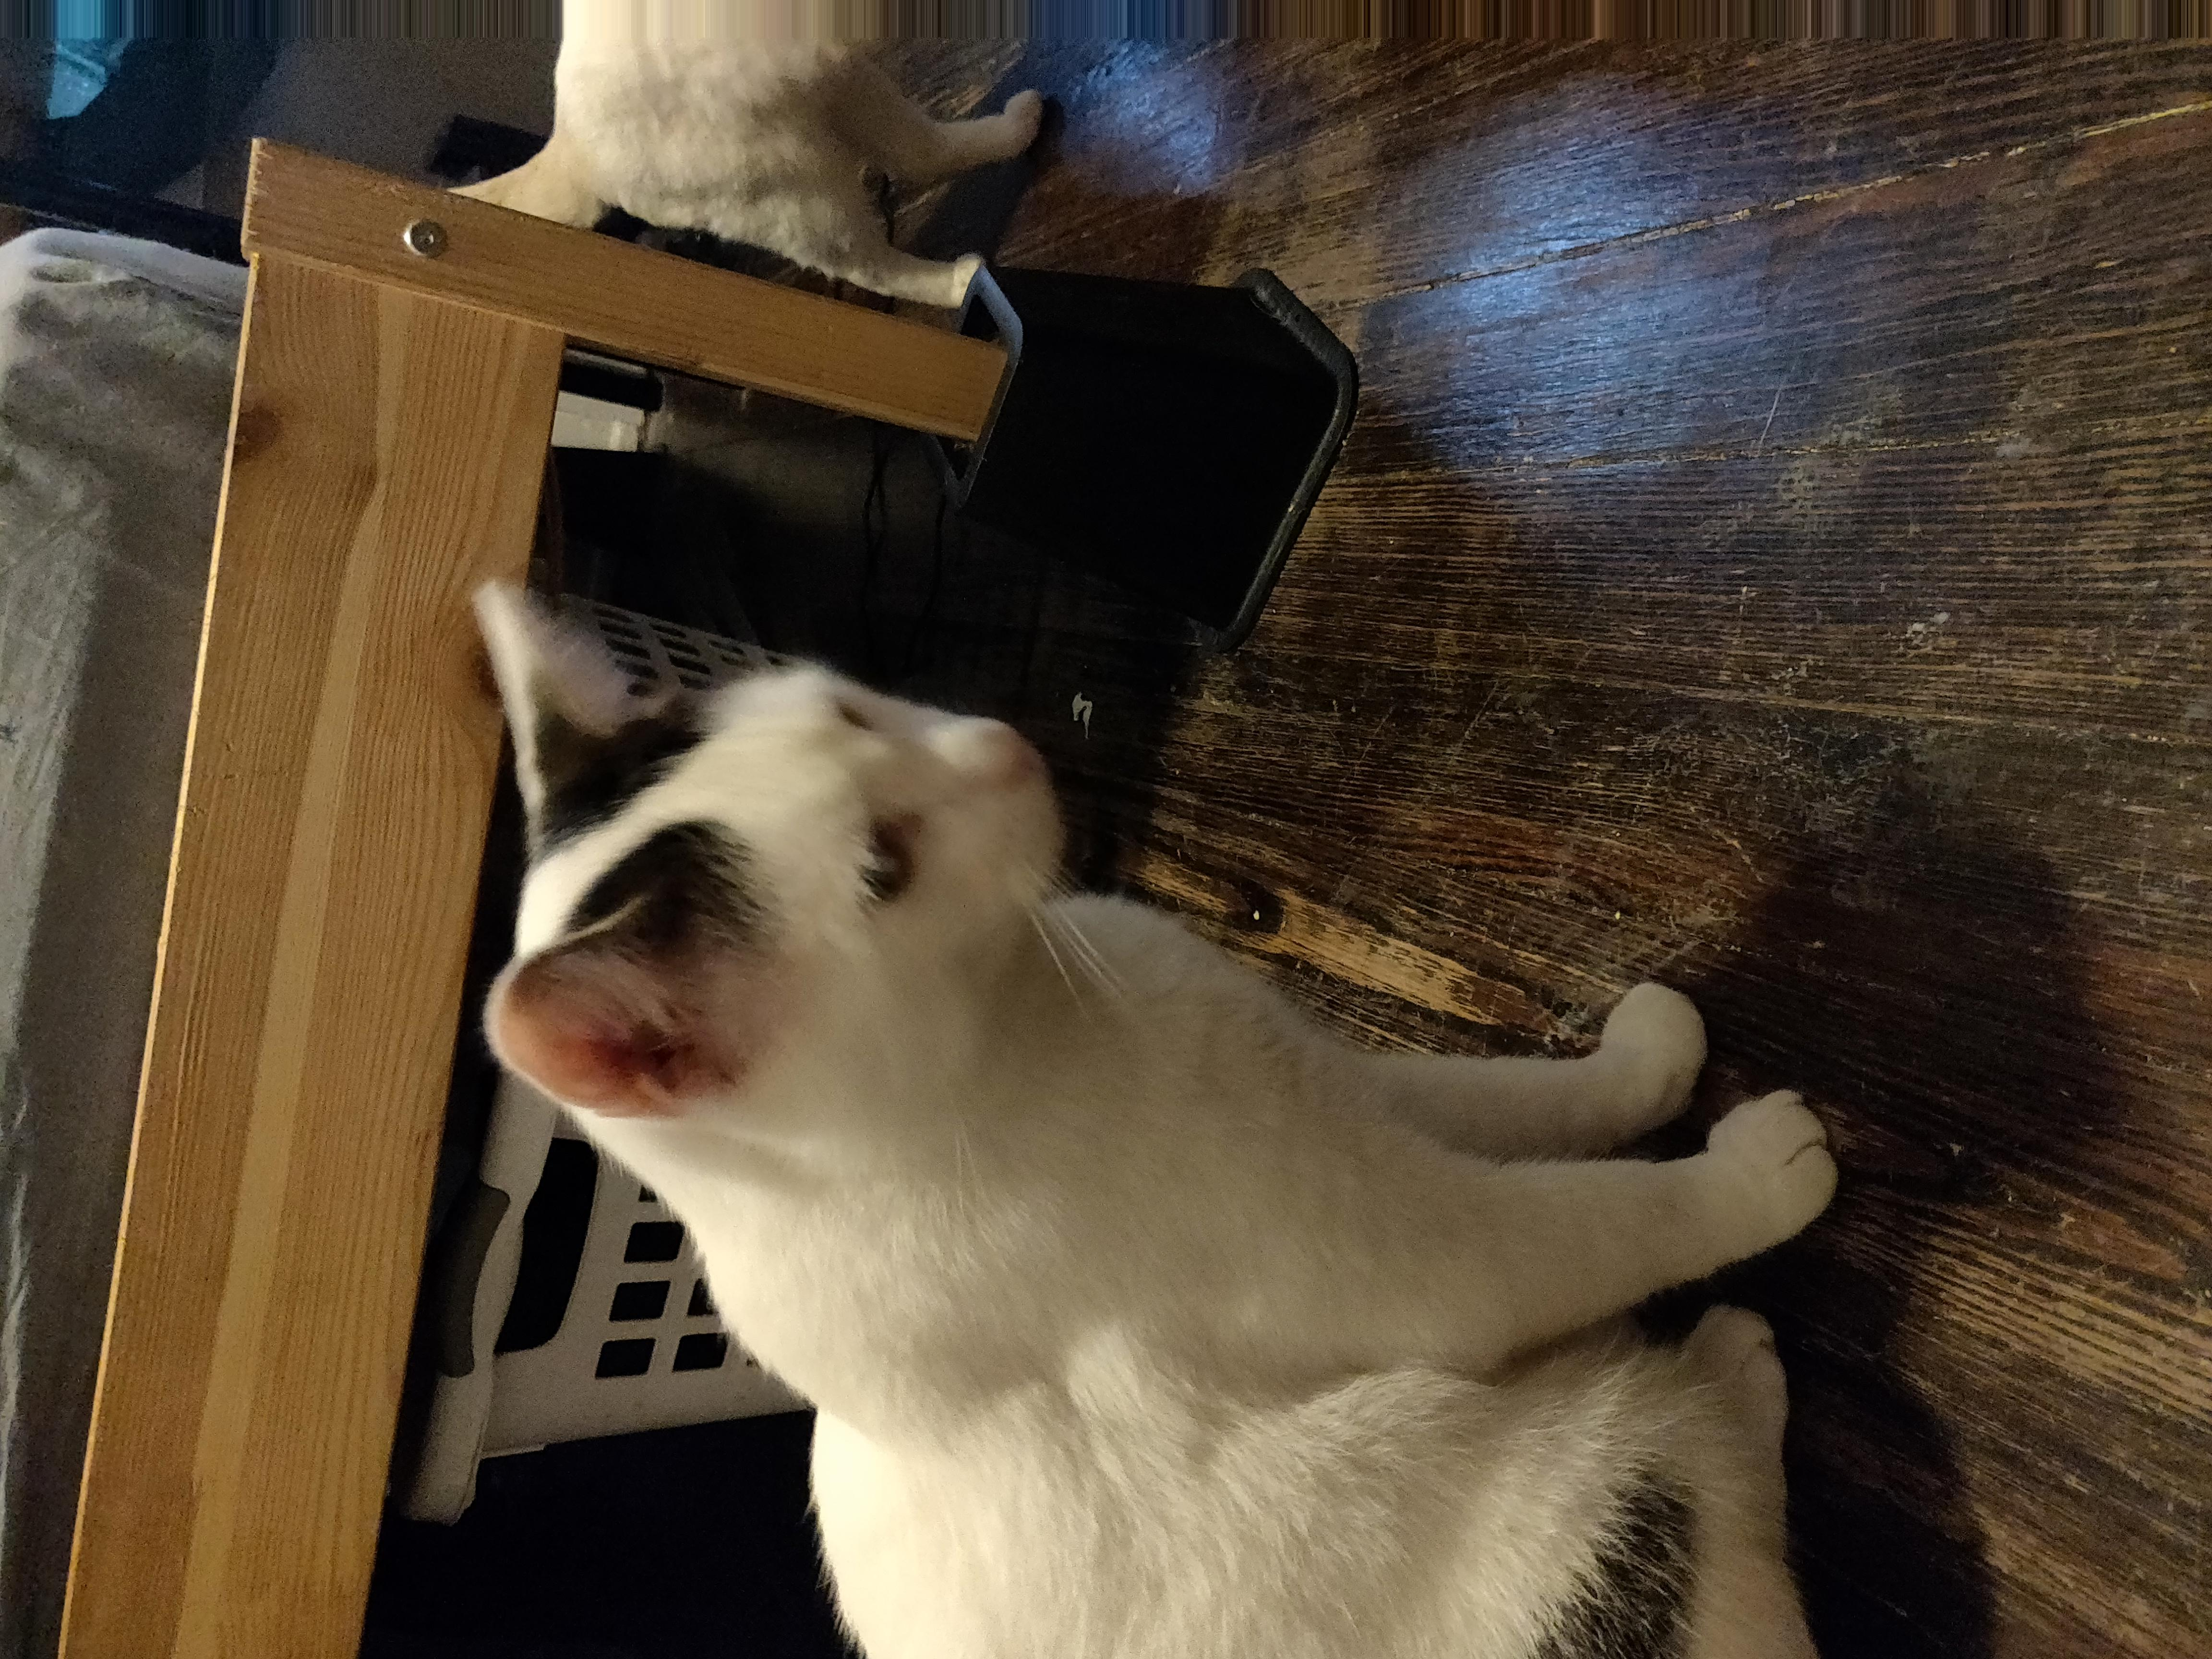cat: (470, 557, 1837, 1659)
